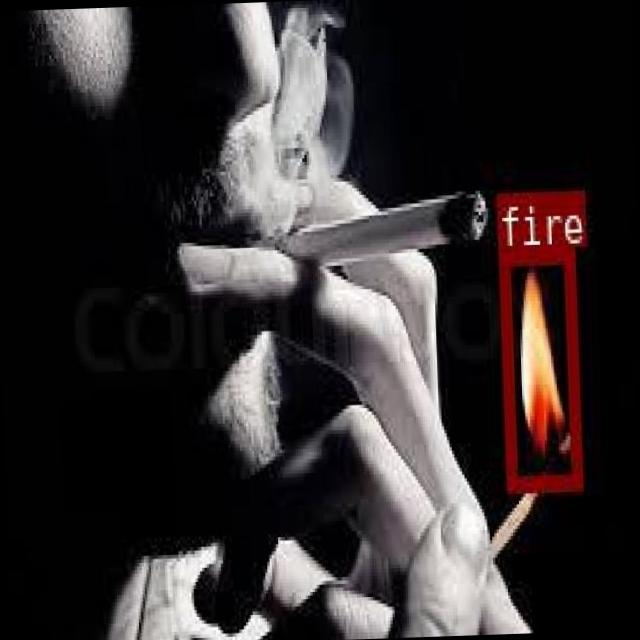fire: (496, 246, 578, 487)
